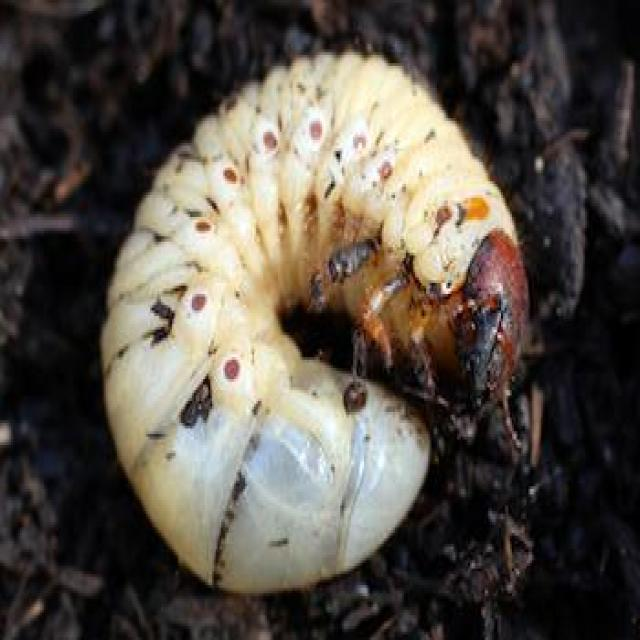Grub-Adult-: (103, 37, 532, 594)
